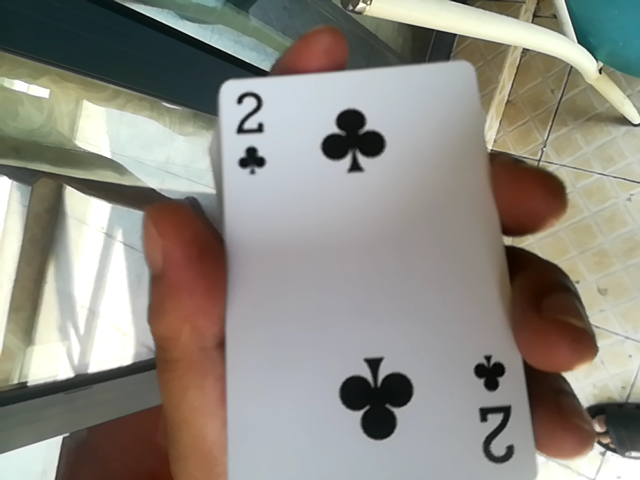mh 2: (199, 58, 537, 472)
